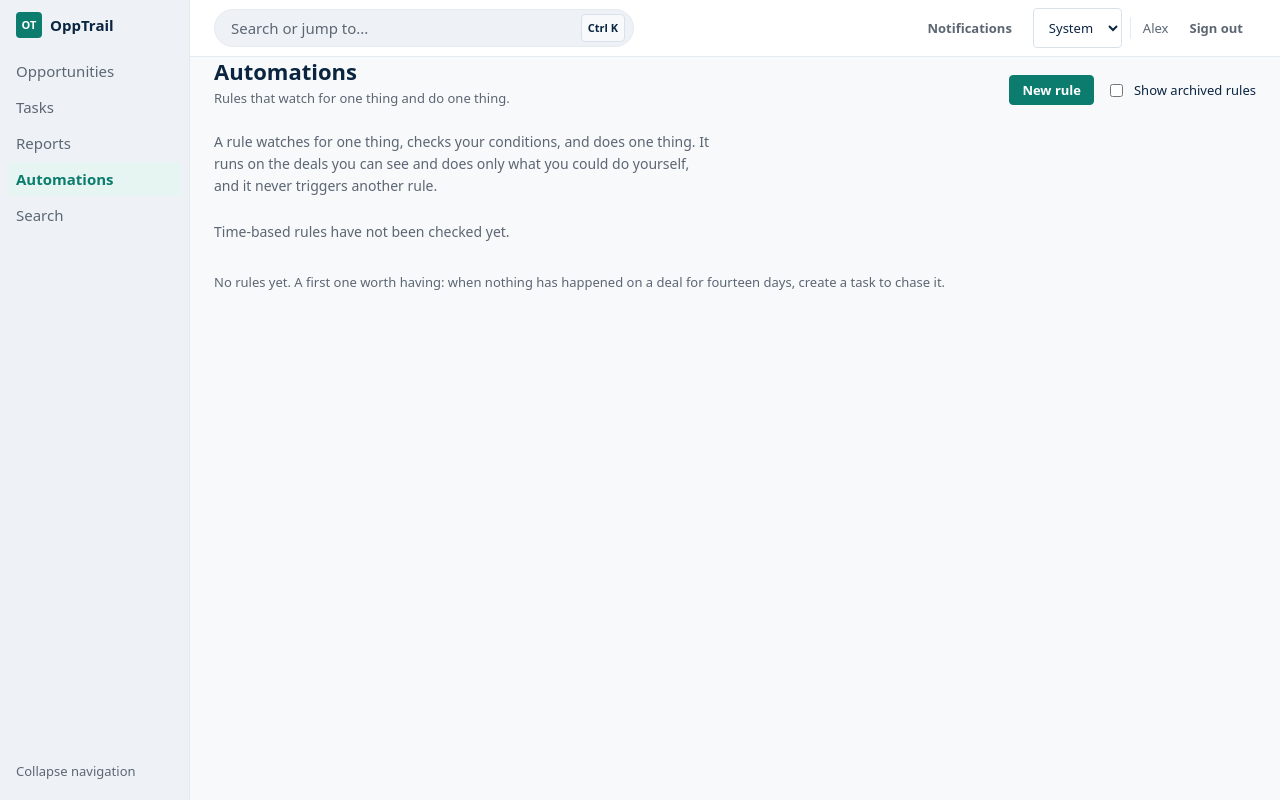
writing a rule › shows the sentence while it is being built, not after saving
The width and height of the screenshot is (1280, 800).
Expected: the heading "Automations" is shown, 214,56 -> 357,86
Click the button "New rule" at (1052, 90), box 1009,75 -> 1094,105
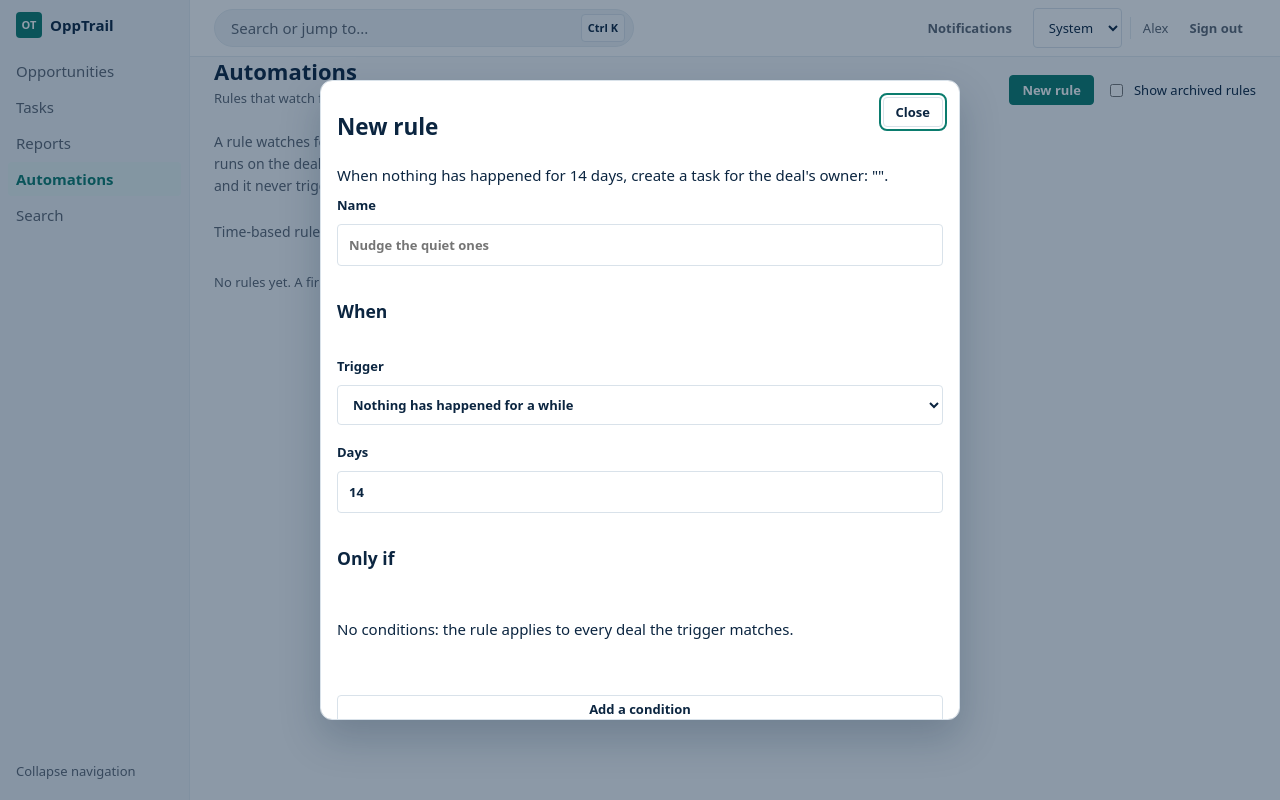
Select "A close date is approaching" in the dropdown labelled "Trigger" at (640, 405), box 337,385 -> 943,425
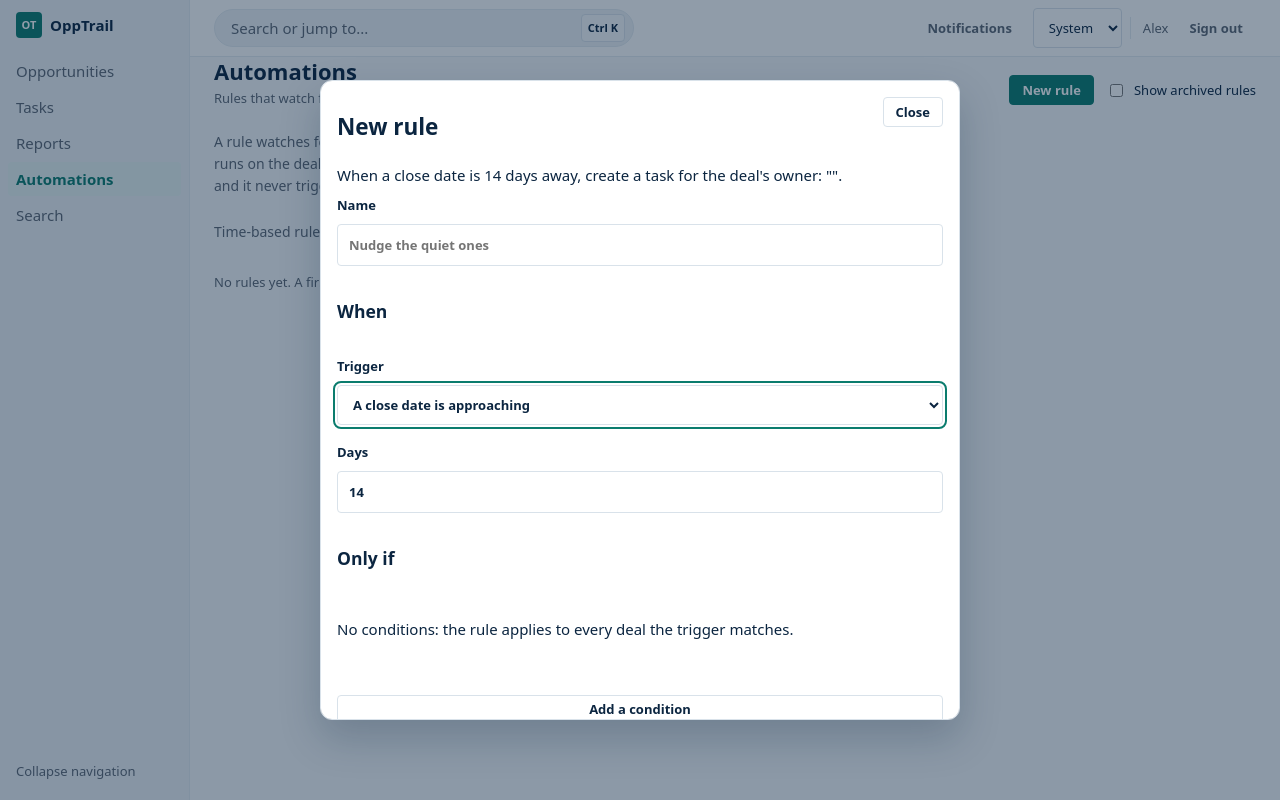
Expected: the text "When a close date is 14 days away" is shown, 337,165 -> 842,185
